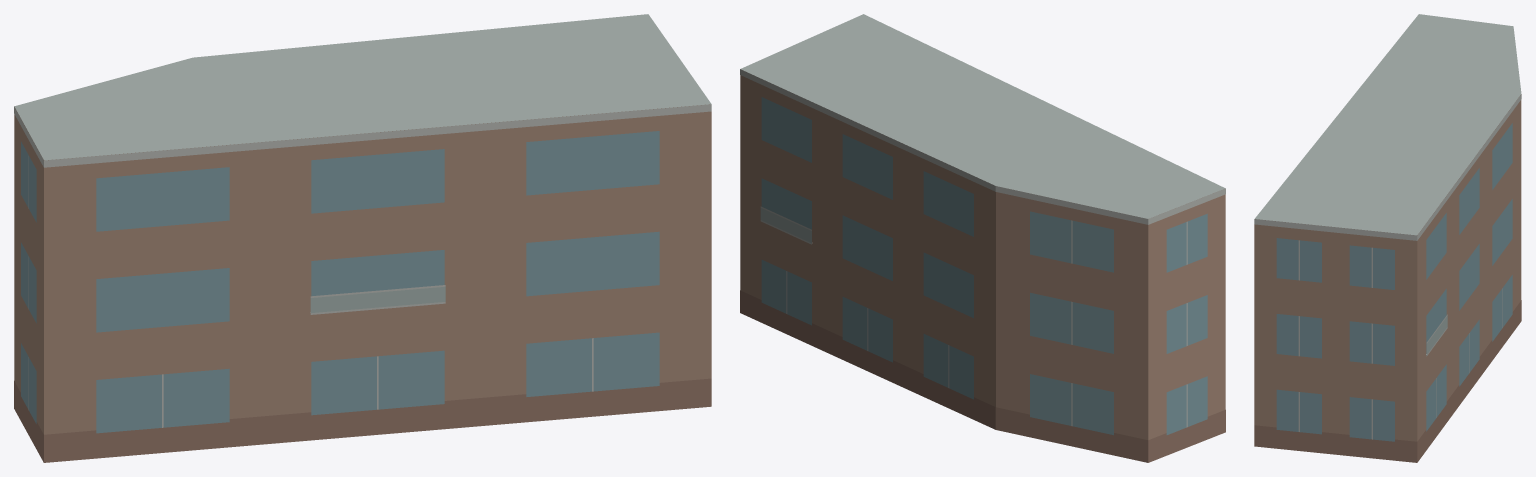
Rendered from survey-upis-32943690.glb.
3 views of the same model, side by side, from view 1: azimuth 30°, elevation 25°; view 2: azimuth 150°, elevation 25°; view 3: azimuth 270°, elevation 25° (orthographic). The views are drawn at different scales.
Parts seen in each view (by area): view 1: survey-upis-32943690.tmp; view 2: survey-upis-32943690.tmp; view 3: survey-upis-32943690.tmp.
Boxes of the visible parts, x1,y1,x2,y2 form: survey-upis-32943690.tmp: (14,14,711,462); survey-upis-32943690.tmp: (740,14,1225,462); survey-upis-32943690.tmp: (1254,14,1521,462).
Size of the model in its own units: 21.1 by 10.1 by 10.76.
